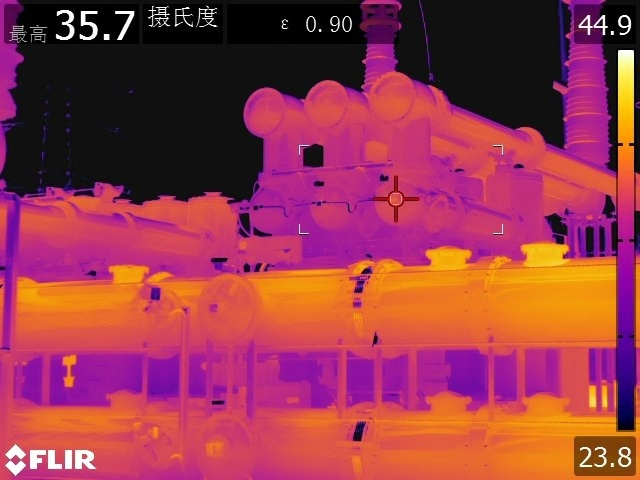tube: (547, 1, 613, 162), (357, 3, 405, 86)
